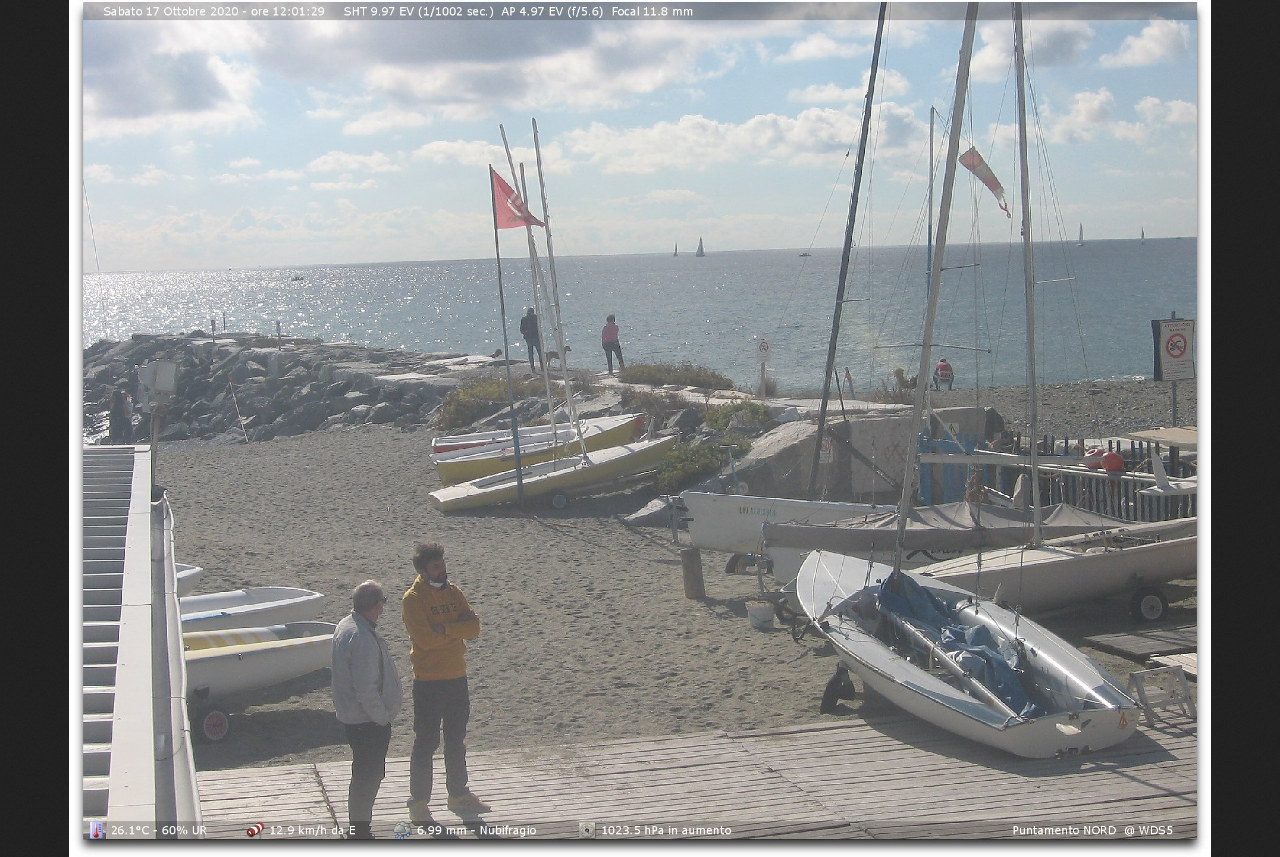maybe: (491, 167, 545, 233)
